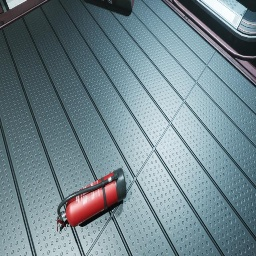FireExtinguisher ]: (57, 168, 127, 232)
NitrogenTank ,: (100, 0, 134, 10)
